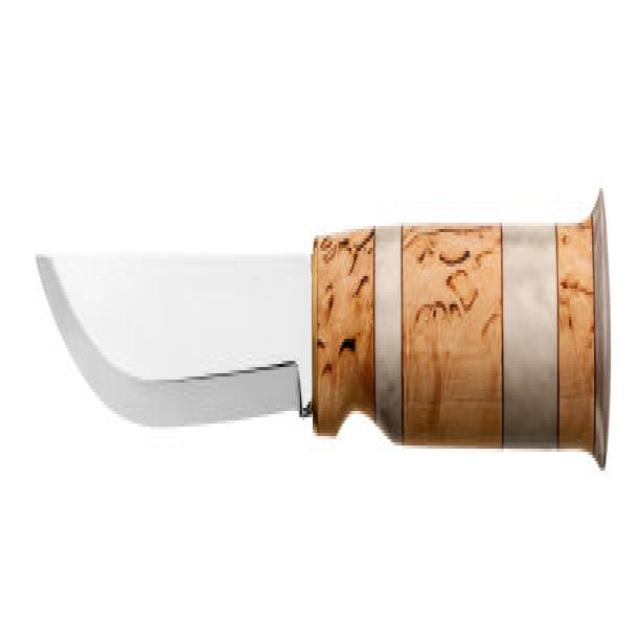knife: (26, 185, 619, 482)
